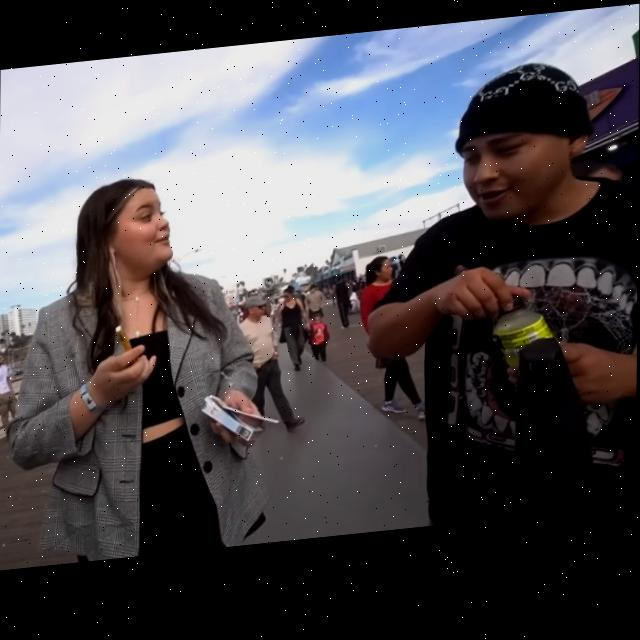vape: (114, 327, 132, 355)
